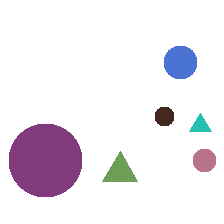circle: (9, 124, 81, 196), (164, 46, 196, 78), (193, 149, 215, 171), (155, 107, 173, 125)
triangle: (102, 151, 137, 181), (189, 113, 211, 131)
